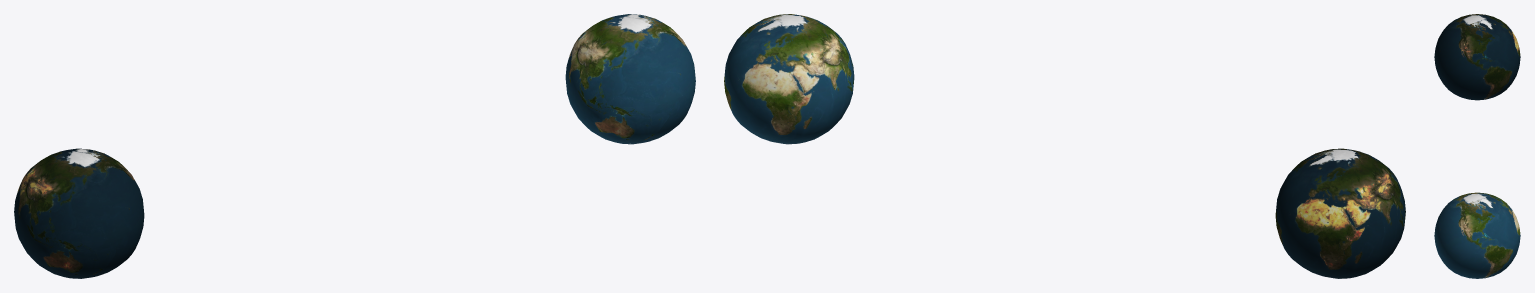
Rendered from HIGHPOLYearth.fbx.
3 renders of one model, left to right at view 1: azimuth 30°, elevation 25°; view 2: azimuth 150°, elevation 25°; view 3: azimuth 270°, elevation 25°, orthographic. The views are drawn at different scales.
Parts seen in each view (by area): view 1: Cube, Cube.006; view 2: Cube, Cube.006; view 3: Cube, Cube.006.
Boxes of the visible parts, box(x1,y1,x2,y2) form: Cube: box(565, 14, 695, 144); Cube.006: box(14, 148, 144, 278); Cube: box(724, 14, 854, 144); Cube.006: box(1275, 148, 1405, 278); Cube: box(1434, 192, 1520, 278); Cube.006: box(1434, 14, 1520, 100).
Size of the model in its own units: 85730 by 14520 by 14520.
